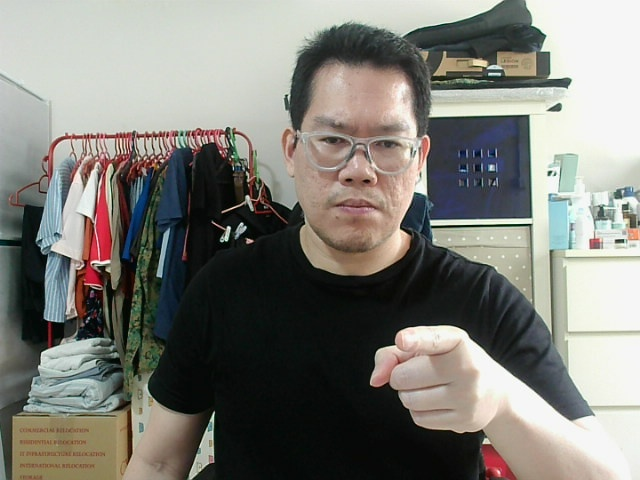you: (376, 333, 505, 419)
